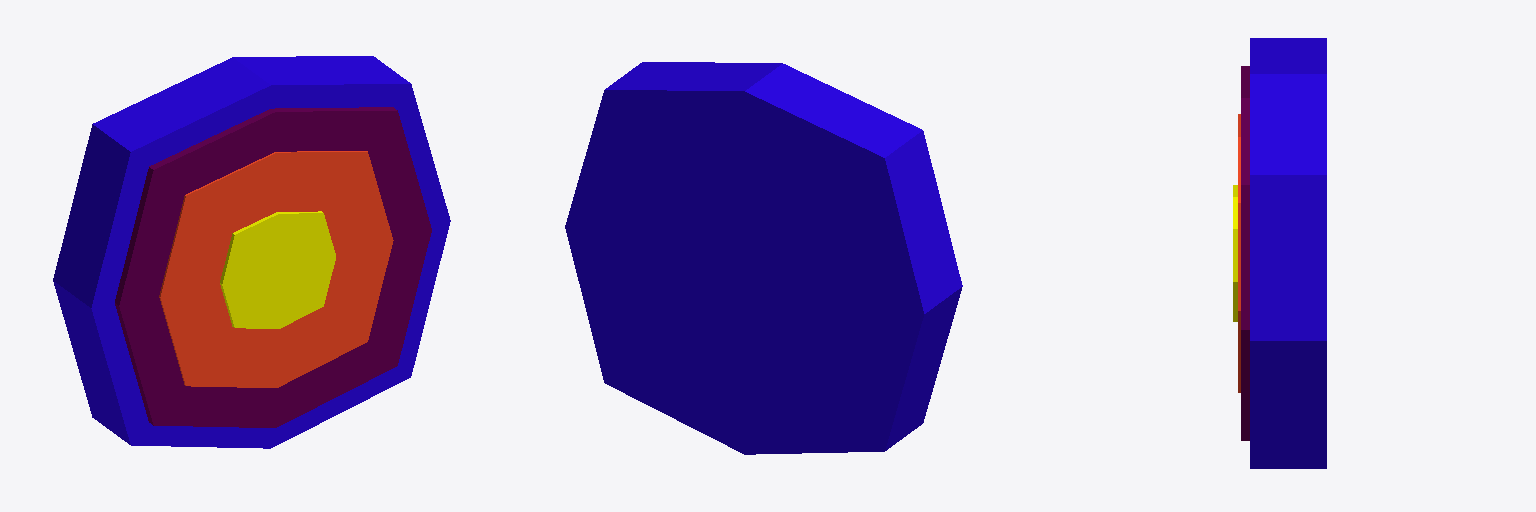
Rendered from target_small.obj.
3 renders of one model, left to right at view 1: azimuth 30°, elevation 25°; view 2: azimuth 150°, elevation 25°; view 3: azimuth 270°, elevation 25°, orthographic.
Visible parts, largest first — view 1: Cube, Cube.001, Cube.003, Cube.002; view 2: Cube; view 3: Cube, Cube.001, Cube.003, Cube.002.
Boxes of the visible parts, x1=… form: Cube: x1=53, y1=56, x2=450, y2=448; Cube.001: x1=115, y1=107, x2=431, y2=427; Cube.003: x1=159, y1=151, x2=393, y2=387; Cube.002: x1=220, y1=211, x2=335, y2=328; Cube: x1=565, y1=62, x2=962, y2=454; Cube: x1=1250, y1=38, x2=1326, y2=468; Cube.001: x1=1241, y1=66, x2=1249, y2=440; Cube.003: x1=1238, y1=114, x2=1240, y2=392; Cube.002: x1=1233, y1=185, x2=1237, y2=321.
Bounding box in the file's own units: 2.56 × 2.48 × 0.5767.